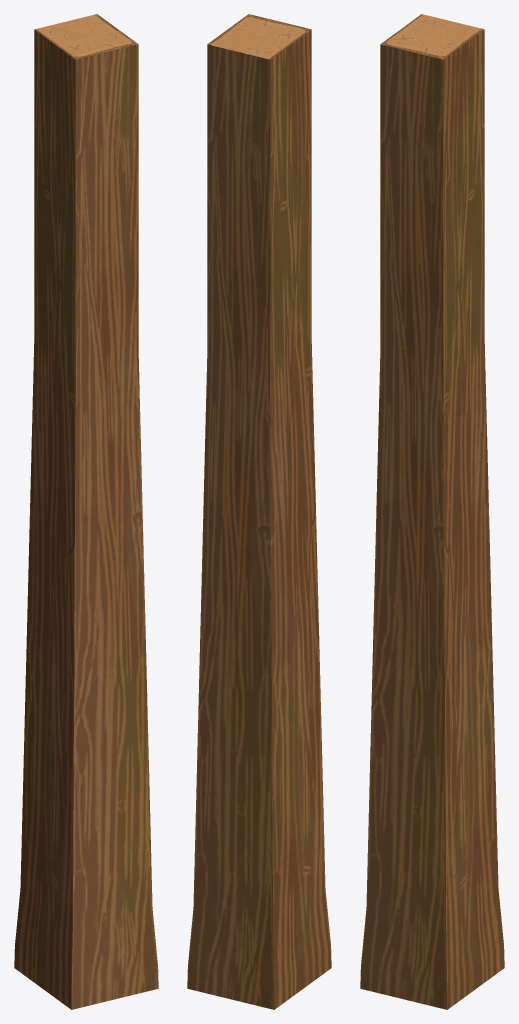
File: Corner_ExteriorWide_Wood.glb
3 renders of one model, left to right at view 1: azimuth 30°, elevation 25°; view 2: azimuth 150°, elevation 25°; view 3: azimuth 330°, elevation 25°, orthographic.
Parts seen in each view (by area): view 1: Corner_ExteriorWide_Wood; view 2: Corner_ExteriorWide_Wood; view 3: Corner_ExteriorWide_Wood.
Boxes of the visible parts, x1=… form: Corner_ExteriorWide_Wood: x1=14, y1=14, x2=158, y2=1009; Corner_ExteriorWide_Wood: x1=187, y1=14, x2=331, y2=1009; Corner_ExteriorWide_Wood: x1=360, y1=14, x2=504, y2=1009.
Bounding box in the file's own units: 0.2904 × 3 × 0.3311.
Materials: 1 (1 with a texture image).
